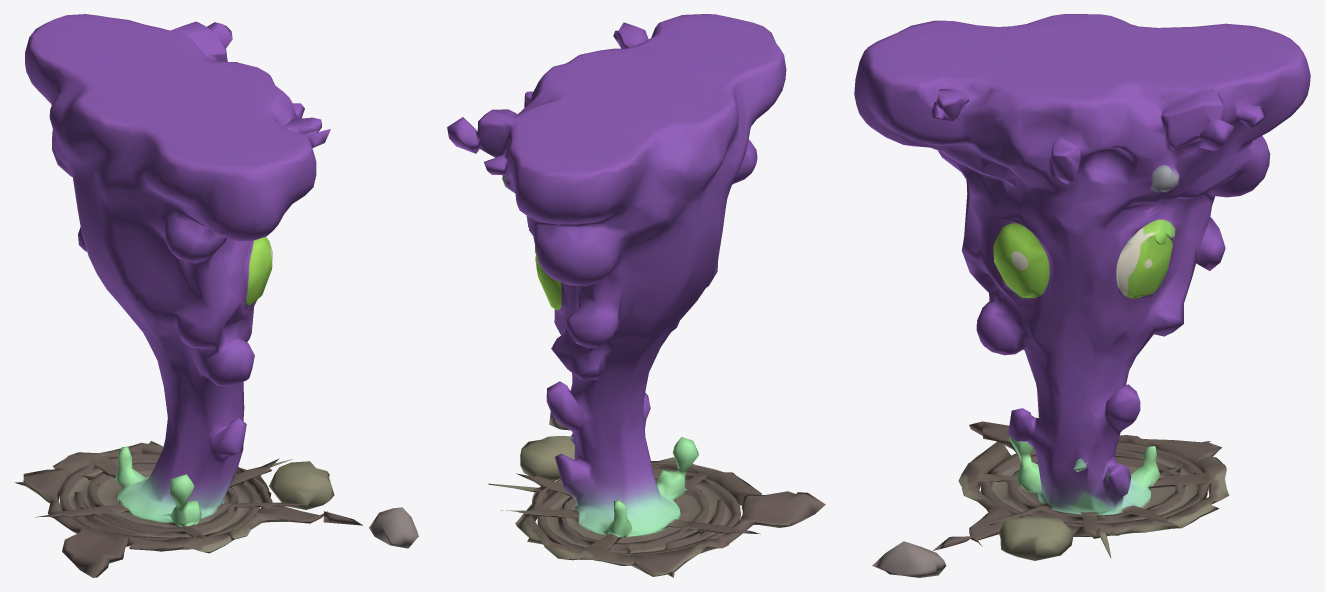
Rendered from prop_poison_vent_model.glb.
3 views of the same model, side by side, from view 1: azimuth 30°, elevation 25°; view 2: azimuth 150°, elevation 25°; view 3: azimuth 270°, elevation 25° (orthographic). The views are drawn at different scales.
Visible parts, largest first — view 1: tripo_node_37ac37d3-89b0-45f1-8ff5-da38c88a343d; view 2: tripo_node_37ac37d3-89b0-45f1-8ff5-da38c88a343d; view 3: tripo_node_37ac37d3-89b0-45f1-8ff5-da38c88a343d.
Part boxes in pixels (bbox=[...]): tripo_node_37ac37d3-89b0-45f1-8ff5-da38c88a343d: bbox=[15, 14, 418, 577]; tripo_node_37ac37d3-89b0-45f1-8ff5-da38c88a343d: bbox=[447, 14, 825, 577]; tripo_node_37ac37d3-89b0-45f1-8ff5-da38c88a343d: bbox=[854, 14, 1310, 577].
Bounding box in the file's own units: 0.7365 × 1 × 0.9332.
Materials: 1 (1 with a texture image).
